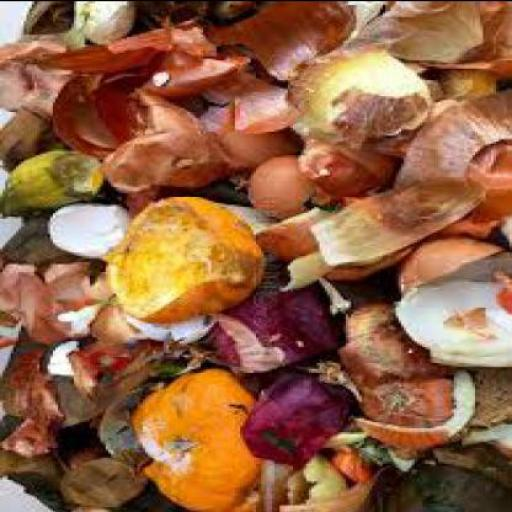biodegradable: (0, 1, 512, 511), (312, 93, 510, 265), (18, 2, 351, 98), (106, 197, 266, 322), (126, 369, 262, 511), (388, 253, 509, 370), (47, 67, 195, 156), (190, 287, 340, 373), (103, 96, 232, 192), (285, 54, 423, 142), (256, 209, 412, 281), (238, 366, 350, 466), (338, 2, 480, 71), (0, 412, 95, 511), (351, 374, 472, 448), (372, 447, 510, 511), (332, 303, 441, 379), (303, 374, 451, 428), (67, 342, 182, 406), (0, 151, 101, 218), (87, 298, 211, 352), (205, 102, 293, 172), (388, 239, 502, 293), (0, 265, 74, 348), (0, 352, 55, 456), (298, 140, 391, 200), (0, 36, 69, 114), (40, 377, 140, 425), (58, 456, 146, 510), (248, 158, 322, 220), (0, 106, 69, 172), (45, 206, 126, 257), (92, 390, 146, 464), (32, 263, 111, 312), (61, 2, 132, 47), (467, 2, 509, 77), (277, 482, 377, 511), (135, 1, 243, 26), (430, 65, 497, 105), (298, 452, 348, 504), (470, 368, 510, 432), (277, 249, 332, 293), (0, 218, 48, 264), (256, 464, 300, 512), (224, 204, 277, 240), (456, 421, 510, 455), (430, 216, 491, 242), (327, 447, 367, 485), (314, 278, 348, 316), (118, 186, 156, 218), (320, 433, 356, 453), (285, 468, 301, 503)
